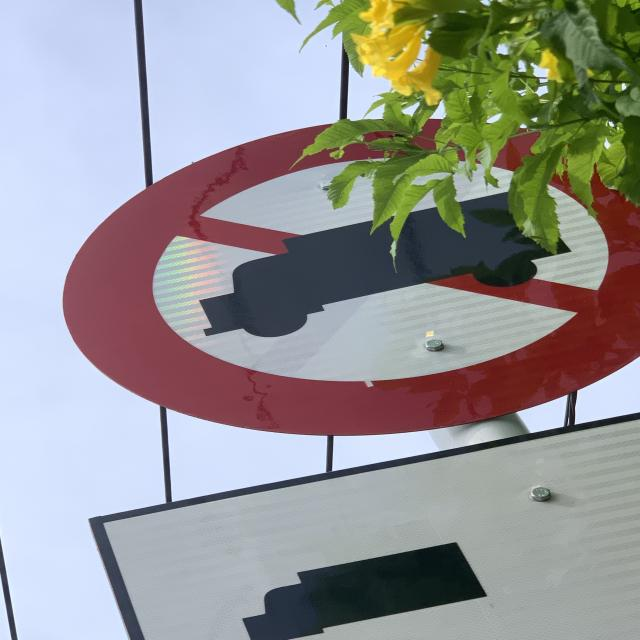Cam_Xe_Tai: (64, 107, 640, 439)
